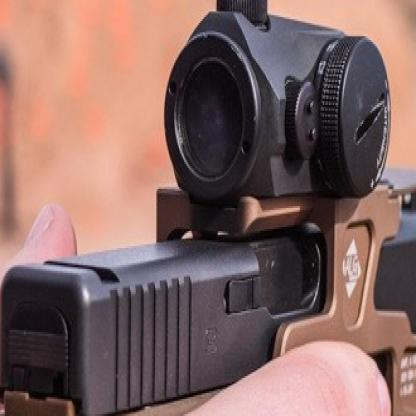gun: (0, 197, 415, 414)
